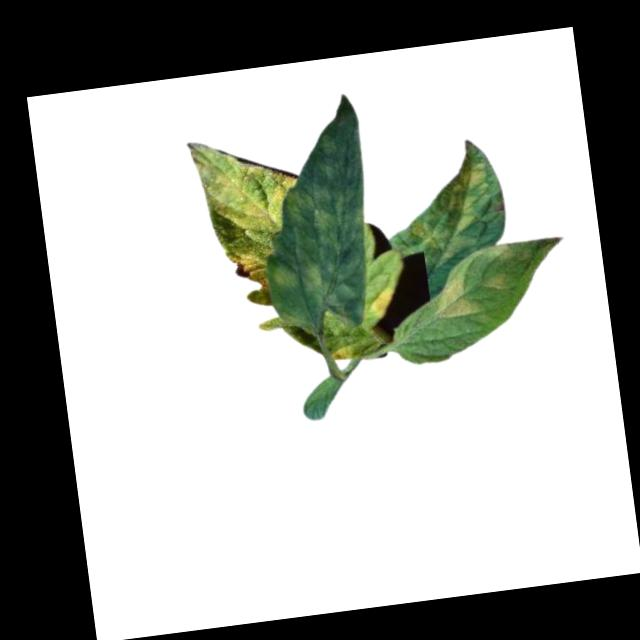Leaf_Mold: (258, 109, 377, 334), (182, 124, 305, 252), (400, 156, 495, 262), (225, 244, 269, 298), (430, 273, 477, 321), (364, 282, 400, 320), (477, 269, 511, 292), (327, 339, 355, 361)
